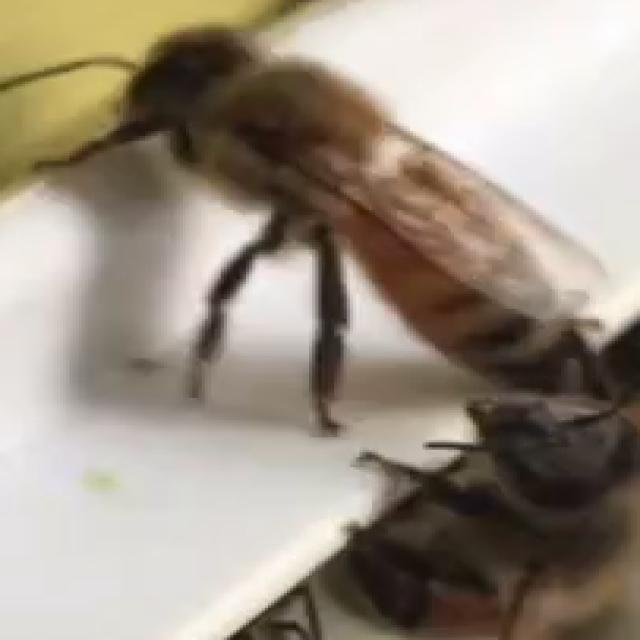honeybee: (56, 27, 538, 370), (458, 401, 616, 530)
